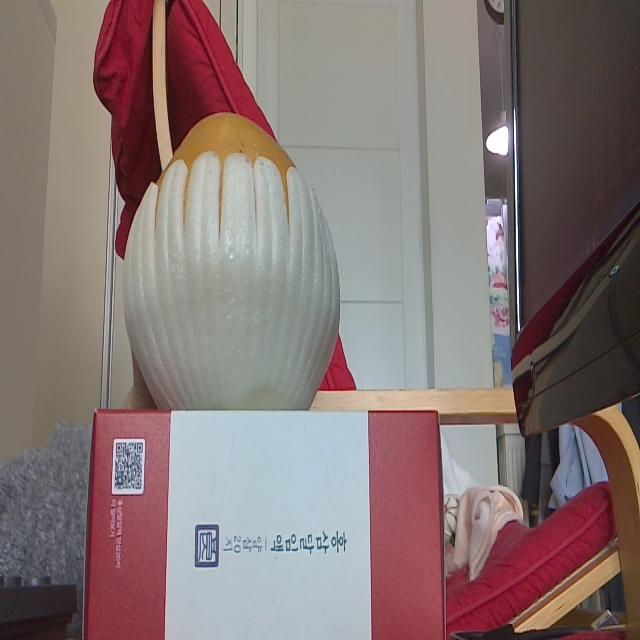pear: (124, 112, 340, 407)
